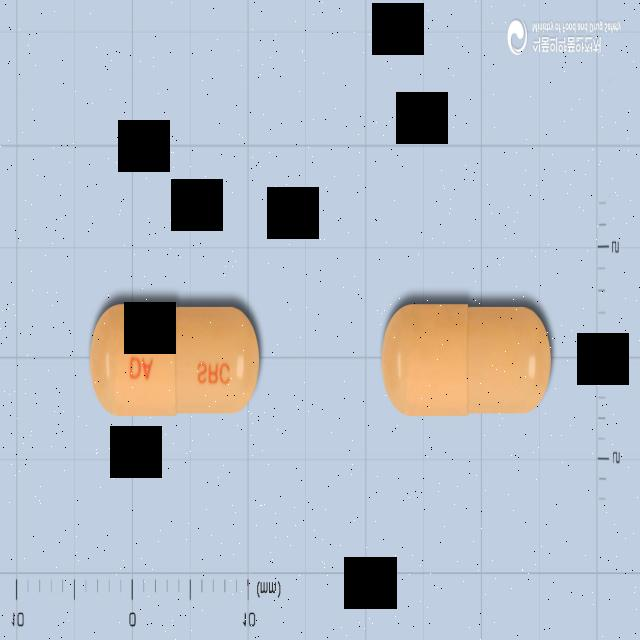Suprax Cap- Dong-A: (88, 302, 261, 418), (381, 303, 553, 416)
